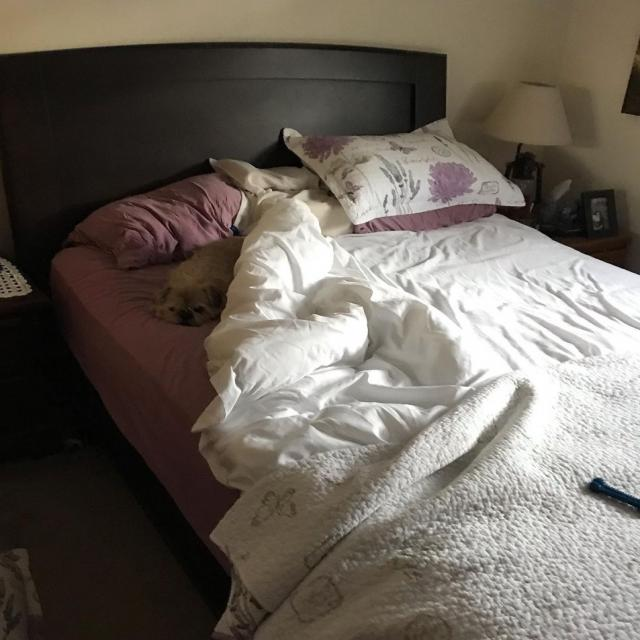bed: (42, 77, 640, 640)
